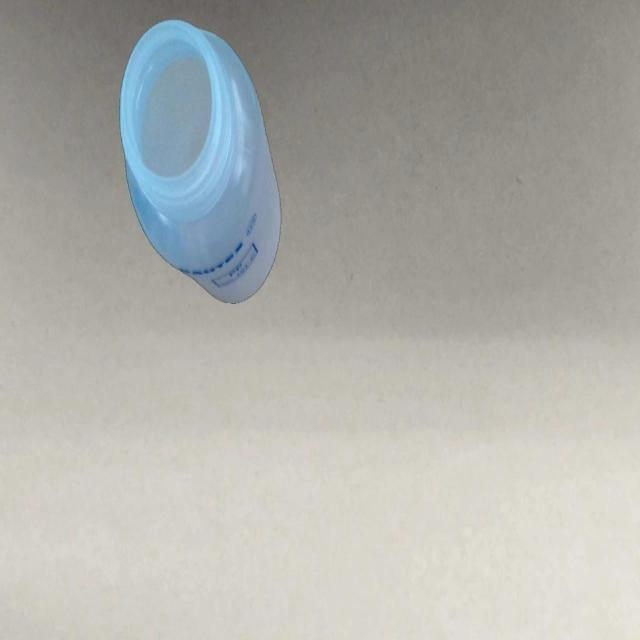bottle: (119, 14, 283, 308)
